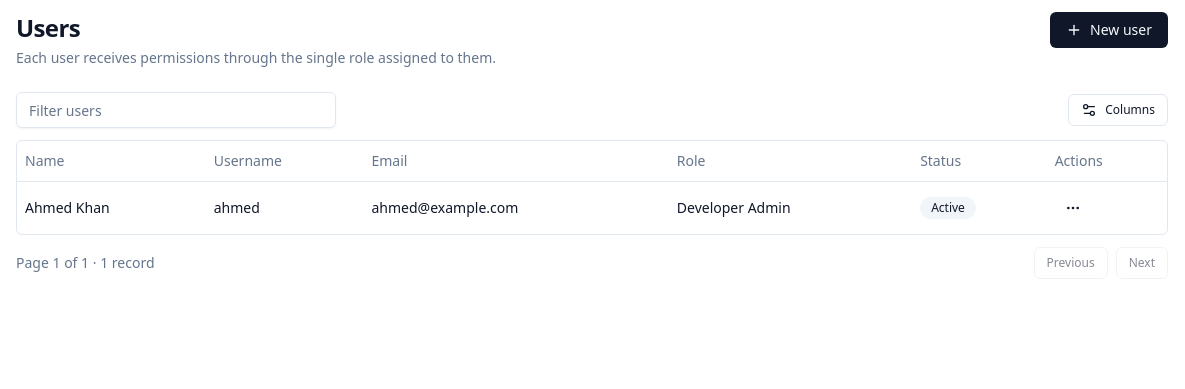
it: UsersPage — one role per user (§6) › offers "Change role" when they already have one
The width and height of the screenshot is (1185, 389).
Click the button named "Actions for ahmed".
click(1073, 208)  # box [1055,190,1091,226]
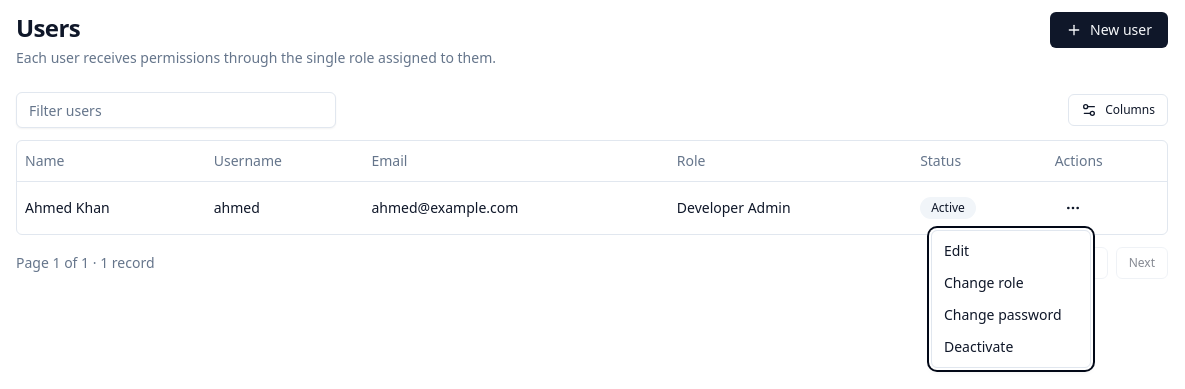
Expected: the menu item "Change role" is shown, [944,273,1024,292]
